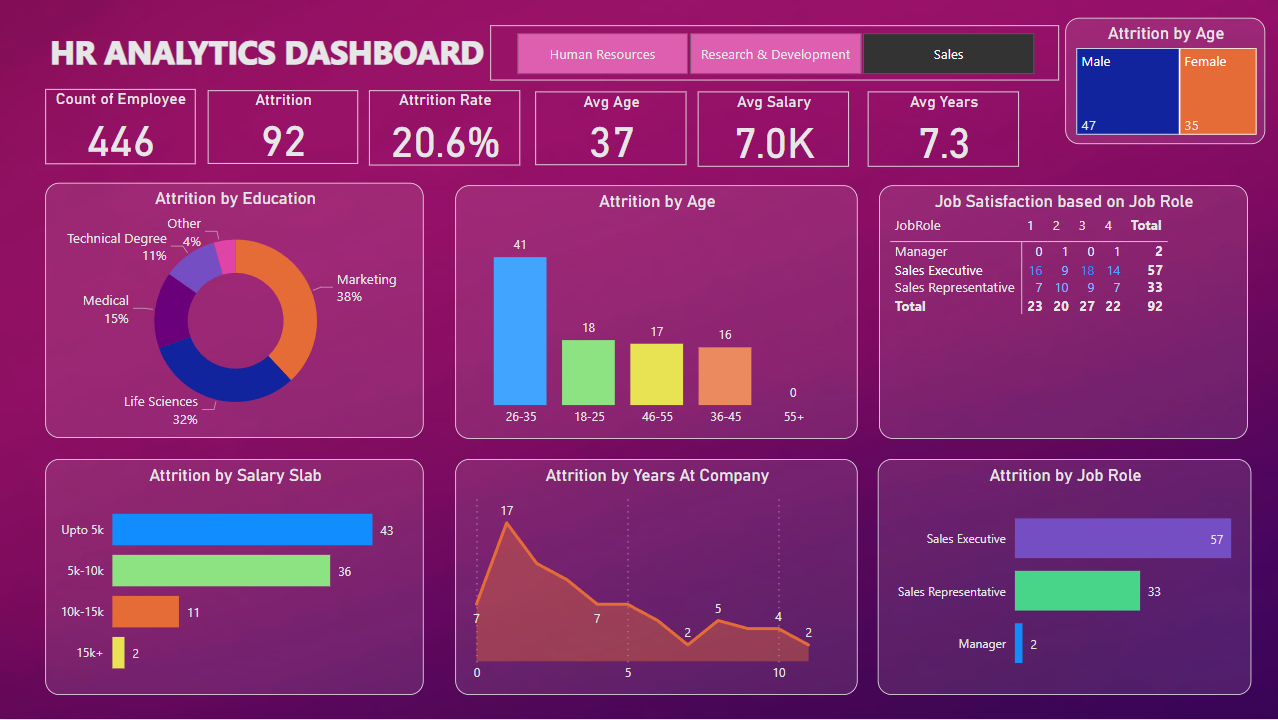

What the dashboard file says about the page in this screenshot:
{"tool":"powerbi","page":{"name":"Page 1","canvas":[1280,720],"ordinal":0},"visuals":[{"type":"card","title":"Count of Employee","fields":{"Values":["CountNonNull(HR_Analytics.EmpID)"]},"box":[46.2,90,150,75],"z":0},{"type":"card","title":"Attrition Rate","fields":{"Values":["HR_Analytics.AttritionRate"]},"box":[370,91.2,151.2,75],"z":1000},{"type":"card","title":"Avg Age","fields":{"Values":["Avg(HR_Analytics.Age)"]},"box":[536.2,92.5,151.2,73.8],"z":2000},{"type":"card","title":"Attrition ","fields":{"Values":["Sum(HR_Analytics.AttritionCount)"]},"box":[208.8,91.2,150,73.8],"z":3000},{"type":"card","title":"Avg Salary","fields":{"Values":["Avg(HR_Analytics.MonthlyIncome)"]},"box":[698.8,92.5,151.2,75],"z":4000},{"type":"card","title":"Avg Years","fields":{"Values":["Avg(HR_Analytics.YearsAtCompany)"]},"box":[868.8,92.5,151.2,75],"z":5000},{"type":"donutChart","title":"Attrition by Education","fields":{"Category":["HR_Analytics.EducationField"],"Y":["Sum(HR_Analytics.AttritionCount)"]},"box":[46.2,183.8,378.8,255],"z":6000},{"type":"columnChart","title":"Attrition by Age","fields":{"Category":["HR_Analytics.AgeGroup"],"Y":["Sum(HR_Analytics.AttritionCount)"]},"box":[456.2,186.2,402.5,253.8],"z":7000},{"type":"pivotTable","title":"Job Satisfaction based on Job Role","fields":{"Rows":["HR_Analytics.JobRole"],"Columns":["HR_Analytics.JobSatisfaction"],"Values":["Sum(HR_Analytics.AttritionCount)"]},"box":[880,186.2,368.8,253.8],"z":8000},{"type":"barChart","title":"Attrition by Salary Slab","fields":{"Category":["HR_Analytics.SalarySlab"],"Y":["Sum(HR_Analytics.AttritionCount)"]},"box":[46.2,460,378.8,236.2],"z":9000},{"type":"barChart","title":"Attrition by Job Role","fields":{"Category":["HR_Analytics.JobRole"],"Y":["Sum(HR_Analytics.AttritionCount)"]},"box":[878.8,460,373.8,236.2],"z":10000},{"type":"areaChart","title":"Attrition by Years At Company","fields":{"Category":["HR_Analytics.YearsAtCompany"],"Y":["Sum(HR_Analytics.AttritionCount)"]},"box":[456.2,460,402.5,236.2],"z":11000},{"type":"treemap","title":"Attrition by Age","fields":{"Group":["HR_Analytics.Gender"],"Values":["Sum(HR_Analytics.AttritionCount)"]},"box":[1066.2,18.8,200,126.2],"z":12000},{"type":"slicer","fields":{"Values":["HR_Analytics.Department"]},"box":[491.2,26.2,568.8,55],"z":13000},{"type":"textbox","box":[46.2,26.2,463.8,55],"z":13001}]}

Visuals, with their boxes in screenshot pixels (x1, y1, x2, y2), scaled from the page's 1280x720 canvas onto the 1278x720 screenshot:
"Count of Employee" card: x1=46 y1=90 x2=196 y2=165
"Attrition Rate" card: x1=369 y1=91 x2=520 y2=166
"Avg Age" card: x1=535 y1=92 x2=686 y2=166
"Attrition " card: x1=208 y1=91 x2=358 y2=165
"Avg Salary" card: x1=698 y1=92 x2=849 y2=168
"Avg Years" card: x1=867 y1=92 x2=1018 y2=168
"Attrition by Education" donutChart: x1=46 y1=184 x2=424 y2=439
"Attrition by Age" columnChart: x1=455 y1=186 x2=857 y2=440
"Job Satisfaction based on Job Role" pivotTable: x1=879 y1=186 x2=1247 y2=440
"Attrition by Salary Slab" barChart: x1=46 y1=460 x2=424 y2=696
"Attrition by Job Role" barChart: x1=877 y1=460 x2=1251 y2=696
"Attrition by Years At Company" areaChart: x1=455 y1=460 x2=857 y2=696
"Attrition by Age" treemap: x1=1065 y1=19 x2=1264 y2=145
slicer - HR_Analytics.Department: x1=490 y1=26 x2=1058 y2=81
textbox: x1=46 y1=26 x2=509 y2=81
